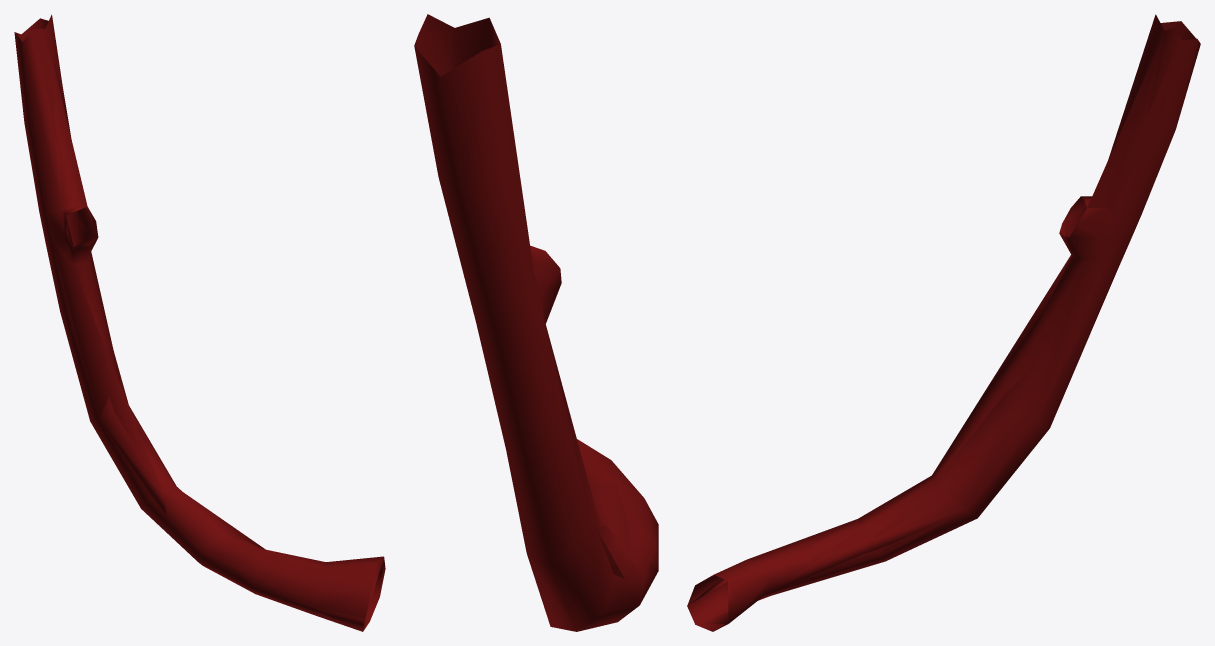
The model's file is truncus costocervicalis.fbx.
The picture shows the model from 3 angles, left to right: view 1: azimuth 30°, elevation 25°; view 2: azimuth 150°, elevation 25°; view 3: azimuth 270°, elevation 25°; orthographic projection. The views are drawn at different scales.
Parts seen in each view (by area): view 1: truncus costocervicalis, truncus costocervicalis low; view 2: truncus costocervicalis, truncus costocervicalis low; view 3: truncus costocervicalis, truncus costocervicalis low.
Part boxes in pixels (x1=…): truncus costocervicalis: x1=14, y1=14, x2=385, y2=630; truncus costocervicalis low: x1=15, y1=18, x2=383, y2=631; truncus costocervicalis: x1=414, y1=14, x2=658, y2=631; truncus costocervicalis low: x1=414, y1=17, x2=658, y2=629; truncus costocervicalis: x1=687, y1=14, x2=1200, y2=631; truncus costocervicalis low: x1=689, y1=17, x2=1196, y2=624.
Size of the model in its own units: 1.9 by 5.07 by 4.34.
